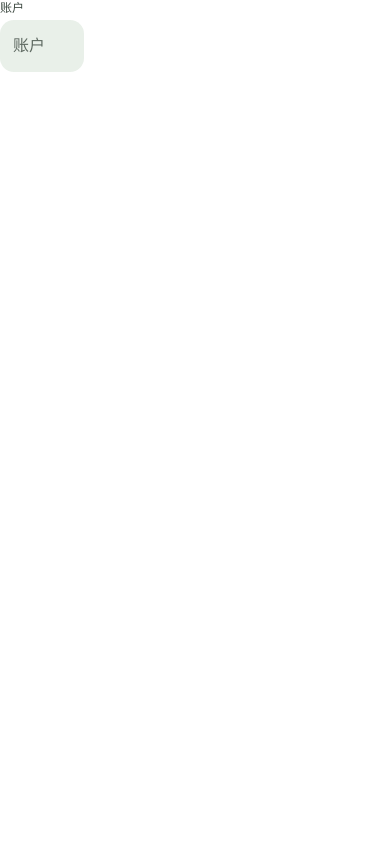
it: SourcePicker › a row shows the account type, its currency and its balance
The width and height of the screenshot is (390, 844).
Click the button with test id "src-trigger". click: coordinates (42, 46)
box: [0,20,84,72]
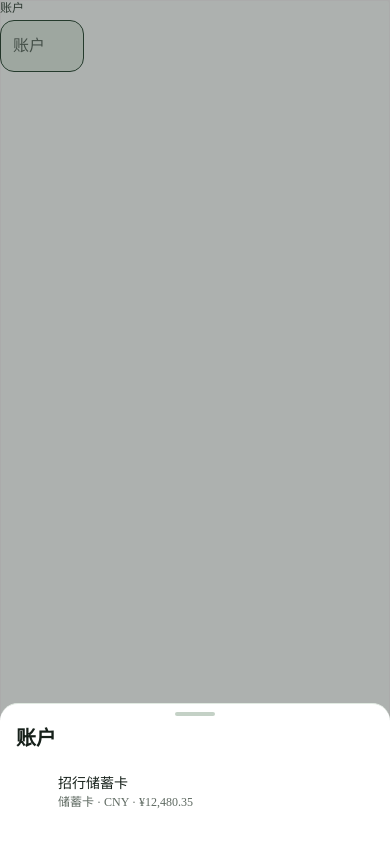
Check: the menu item with test id "src-option-aaaa" shows "储蓄卡", box [58,776,193,809]
Check: the menu item with test id "src-option-aaaa" shows "CNY", box [58,776,193,809]
Check: the menu item with test id "src-option-aaaa" shows "12,480.35", box [58,776,193,809]
